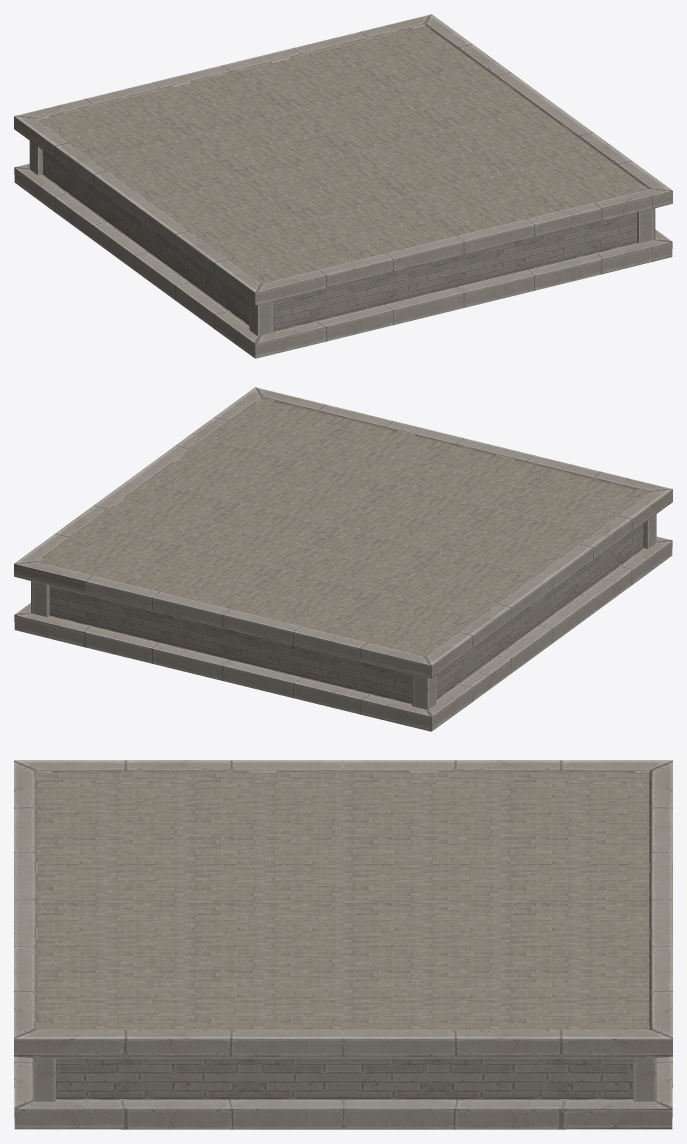
The model's file is mod_zlc_jianzhu066_xy.FBX.
3 views of the same model, one above another, from view 1: azimuth 30°, elevation 25°; view 2: azimuth 150°, elevation 25°; view 3: azimuth 270°, elevation 25° (orthographic). The views are drawn at different scales.
Visible parts, largest first — view 1: mod_zlc_jianzhu066_xy; view 2: mod_zlc_jianzhu066_xy; view 3: mod_zlc_jianzhu066_xy.
Boxes of the visible parts, box(x1,y1,x2,y2) form: mod_zlc_jianzhu066_xy: box(14, 14, 672, 358); mod_zlc_jianzhu066_xy: box(14, 387, 672, 731); mod_zlc_jianzhu066_xy: box(14, 760, 672, 1129).
Size of the model in its own units: 8998 by 1364 by 8998.
2 materials, 2 textured.
